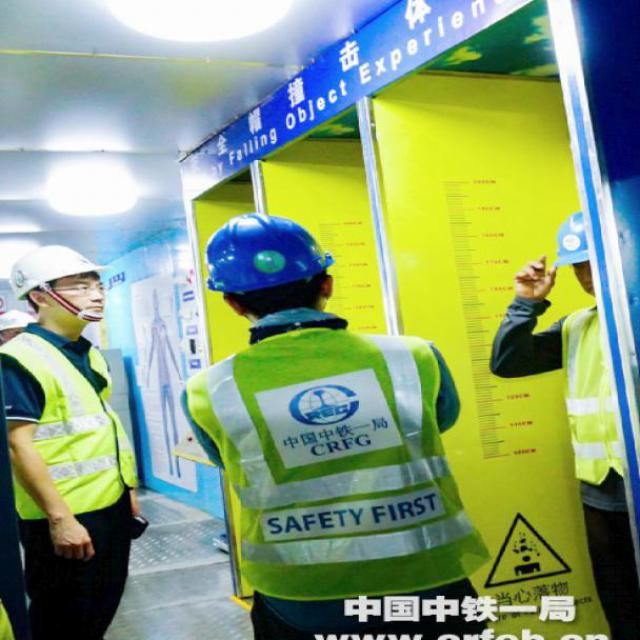helmet: (183, 206, 333, 330), (1, 242, 119, 337)
vest: (168, 342, 485, 590), (0, 335, 156, 513), (554, 302, 621, 486)
